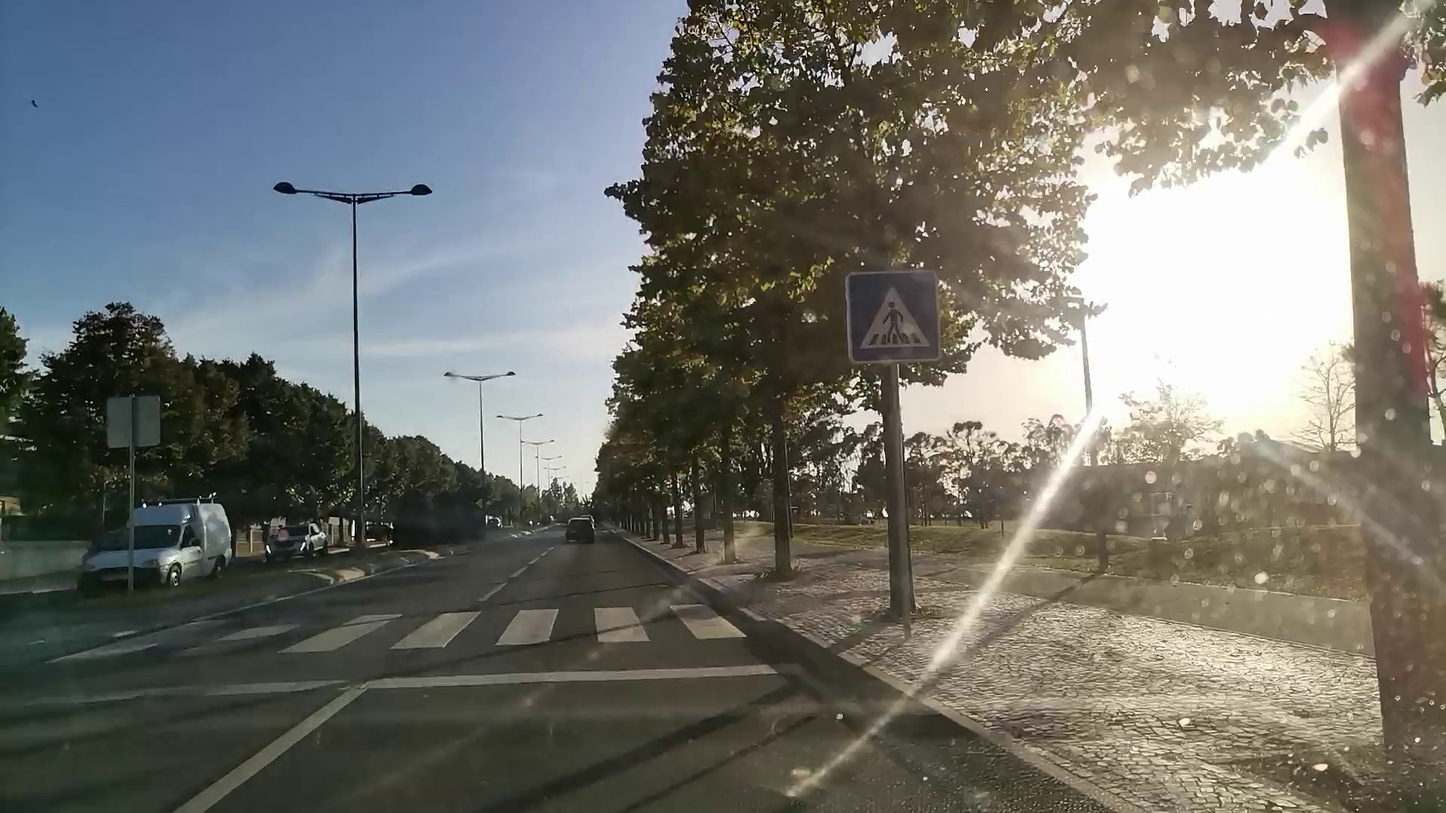Stairs: (55, 601, 751, 657)
